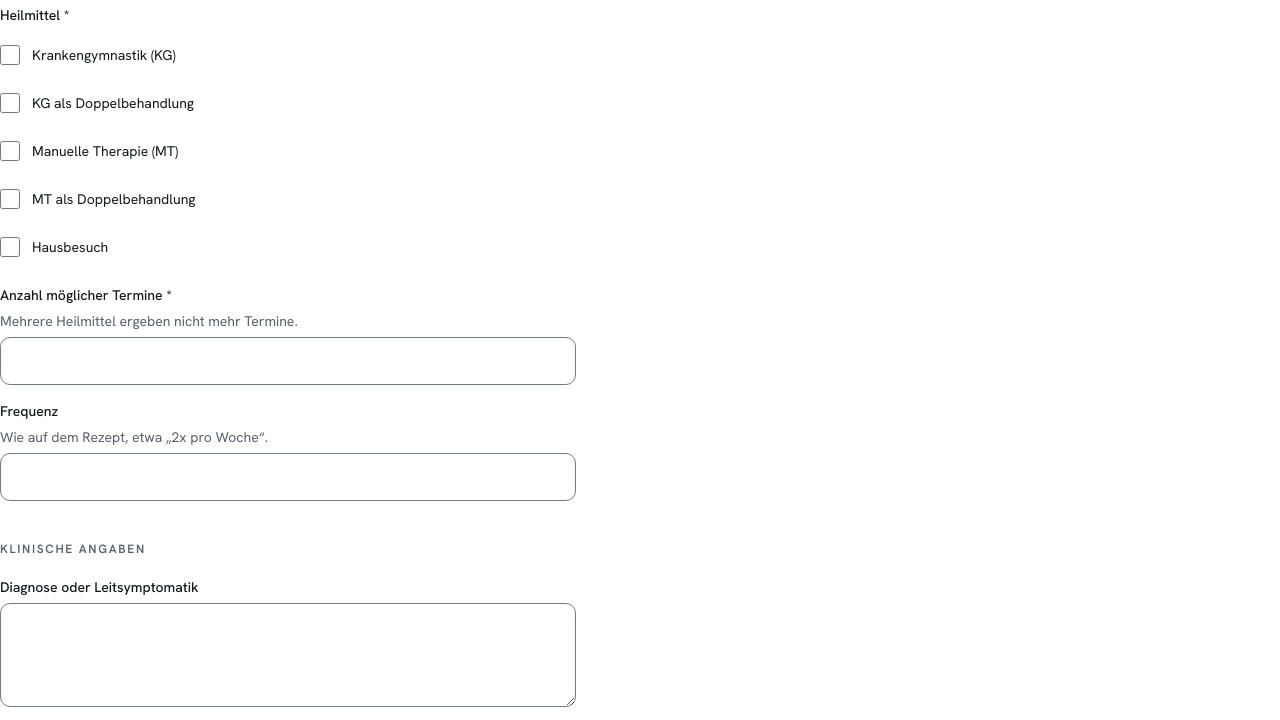
it: Entwurf ueber den Abstecher zur Verordner-Anlage (echte Routen) › schuetzt die zurueckgeholten Eingaben weiter vor dem Verlassen
(page scrolled)
In the field labelled "Anzahl möglicher Termine *": (288, 361) [0, 337, 576, 385], type "6"
(page scrolled)
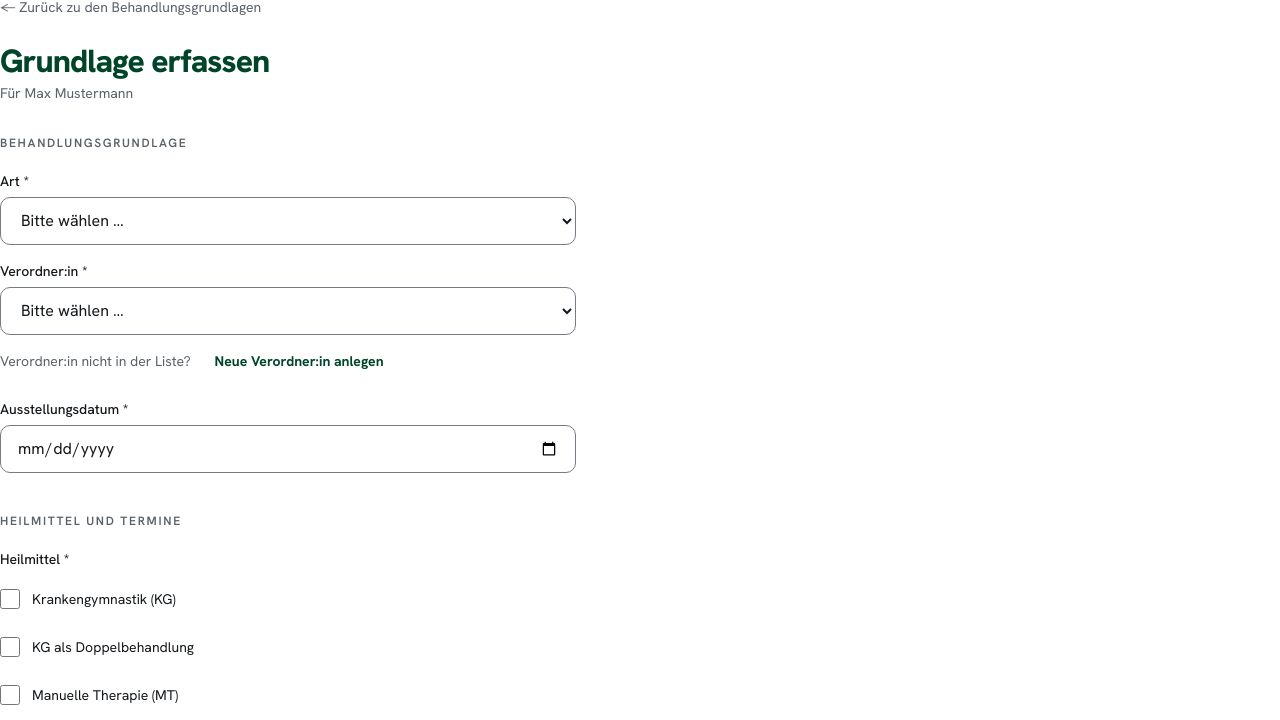
Click the link "Neue Verordner:in anlegen": (299, 361) [215, 352, 384, 370]
(page scrolled)
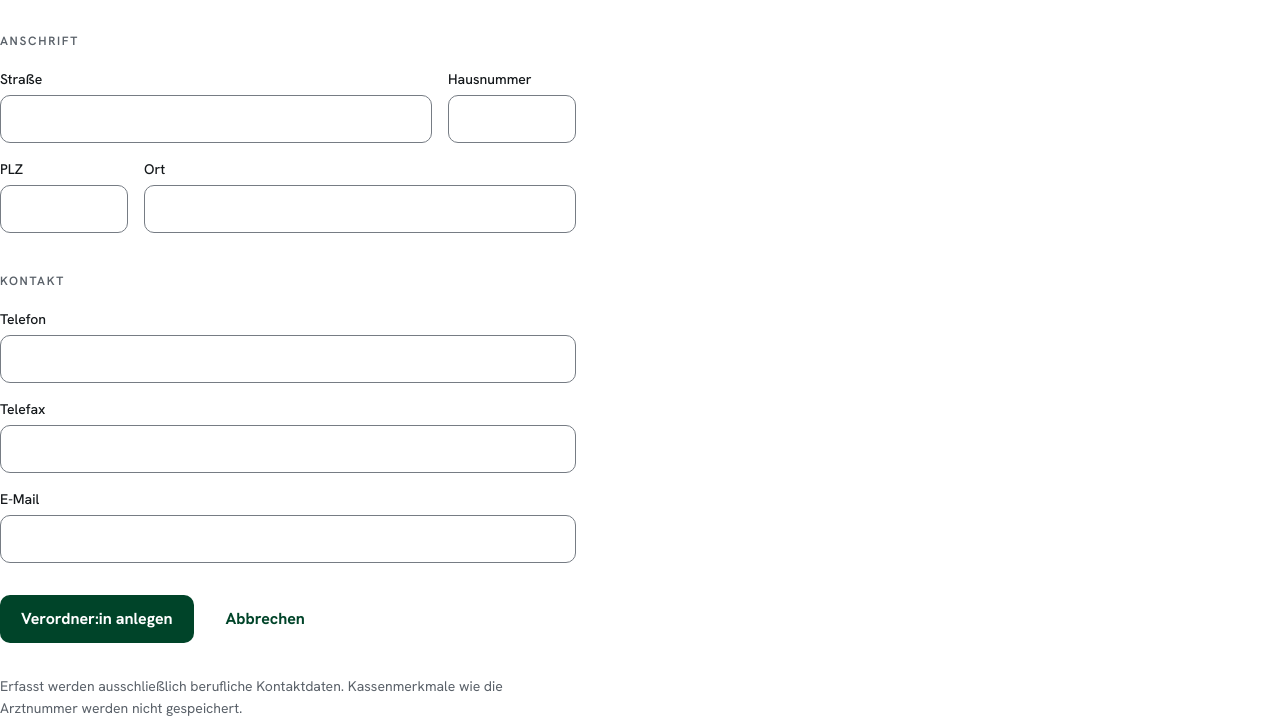
Click the link "Abbrechen": (265, 618) [226, 608, 305, 629]
(page scrolled)
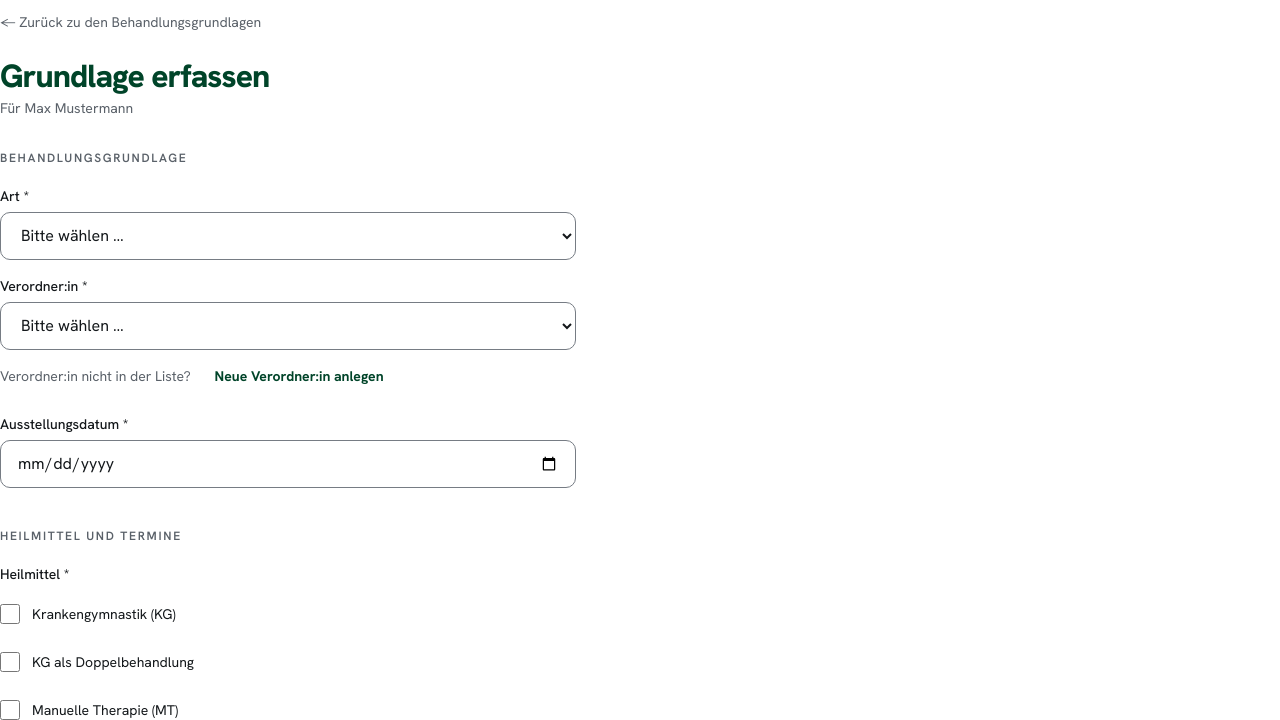
Check: the heading "Grundlage erfassen" is shown, box [0, 60, 269, 94]
Click the link "← Zurück zu den Behandlungsgrundlagen": (131, 22) [0, 13, 261, 31]
(page scrolled)
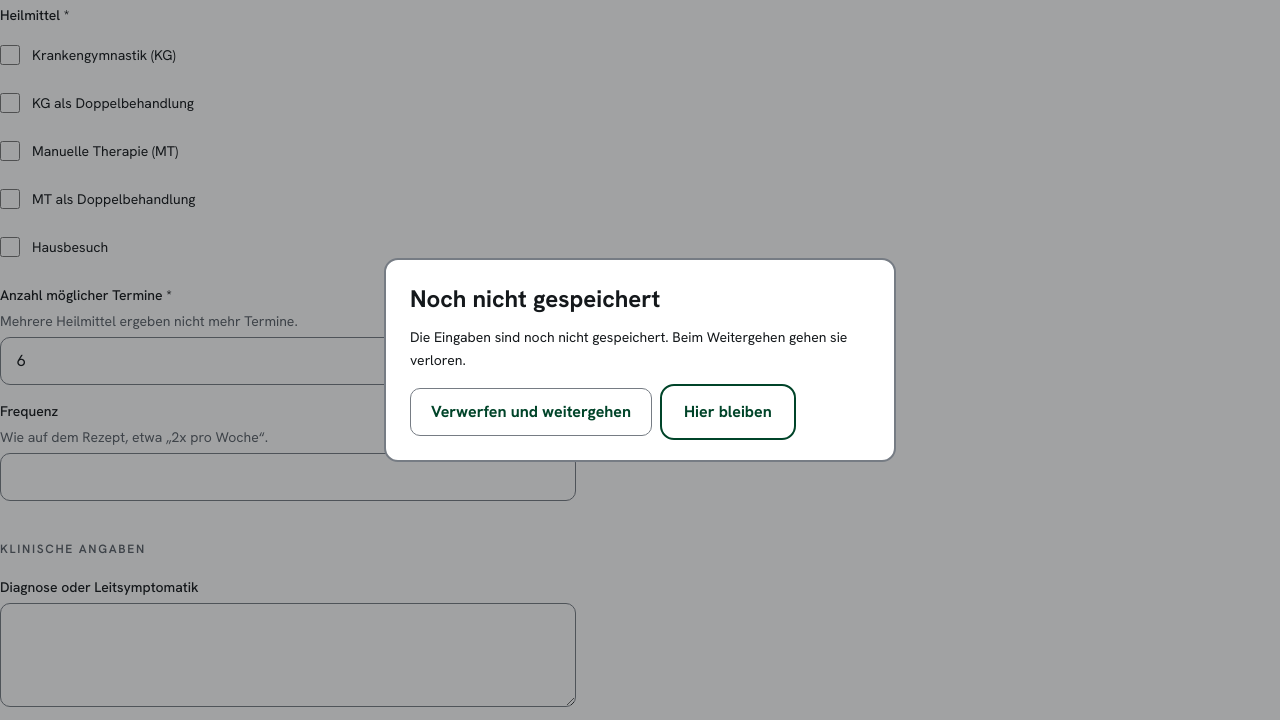
Check: the field labelled "Anzahl möglicher Termine *" holds "6", box [0, 337, 576, 385]
Check: the element named "Ungespeicherte Behandlungsgrundlage" is shown, box [410, 326, 870, 436]
